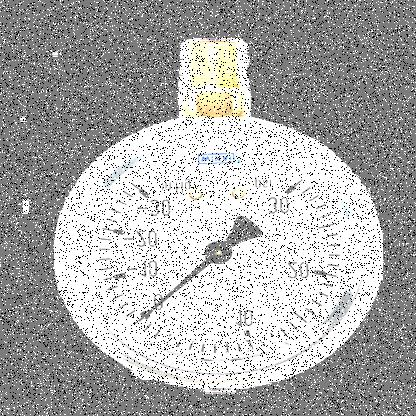needle: (143, 259, 211, 317)
